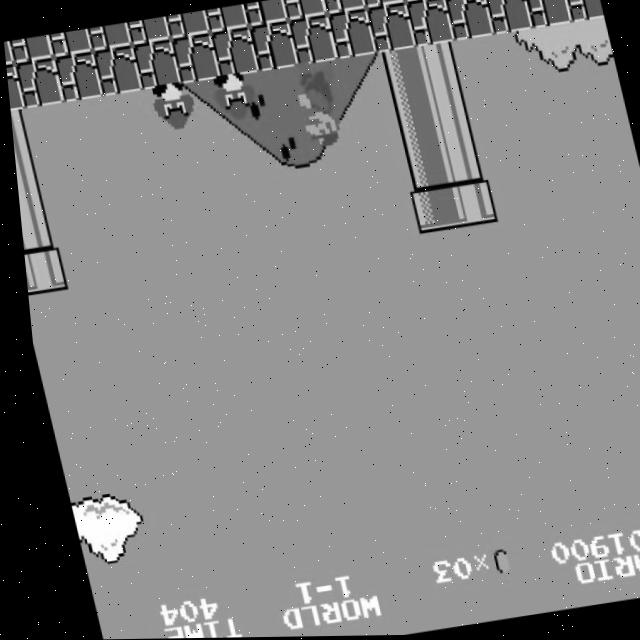0- big_mario: (289, 58, 353, 158)
14- pipe: (424, 88, 475, 139), (395, 139, 446, 190), (385, 94, 436, 145), (375, 49, 426, 100), (415, 42, 465, 94), (434, 134, 485, 184), (15, 200, 54, 250), (12, 154, 44, 205), (8, 109, 34, 160)
15- pipe_head: (444, 178, 495, 229), (404, 184, 455, 235), (18, 244, 63, 295)
17- undestructible_block: (326, 9, 377, 61), (287, 15, 338, 67), (248, 21, 299, 73), (209, 27, 260, 79), (169, 33, 220, 85), (130, 39, 181, 91), (13, 57, 64, 109), (91, 45, 142, 96), (52, 51, 103, 102), (366, 3, 416, 54), (405, 0, 456, 48), (444, 0, 495, 42), (483, 0, 533, 36), (523, 0, 573, 30), (125, 17, 172, 46), (204, 5, 250, 34), (165, 11, 211, 40), (86, 23, 132, 52), (47, 29, 93, 57), (8, 35, 54, 63), (243, 0, 289, 27), (5, 63, 24, 114), (282, 0, 328, 21), (564, 0, 604, 24), (322, 0, 367, 15), (361, 0, 406, 9), (3, 41, 14, 69), (401, 0, 446, 3)
8- goomba: (208, 71, 261, 126), (147, 80, 200, 135)
